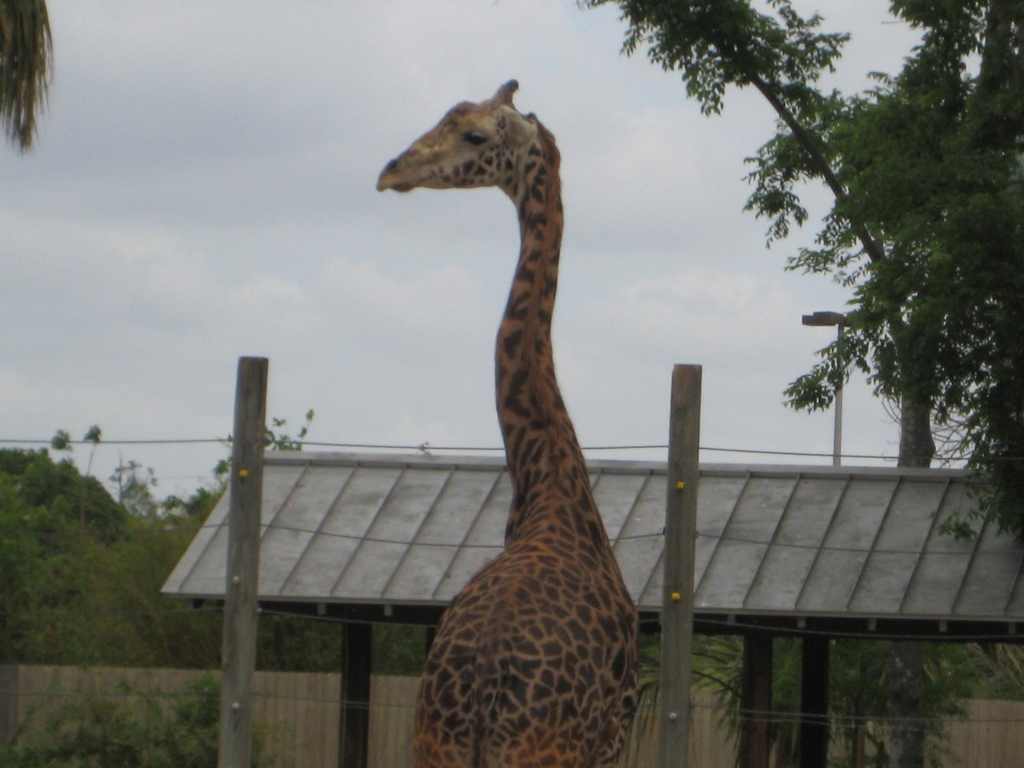giraffe: (395, 76, 641, 745)
